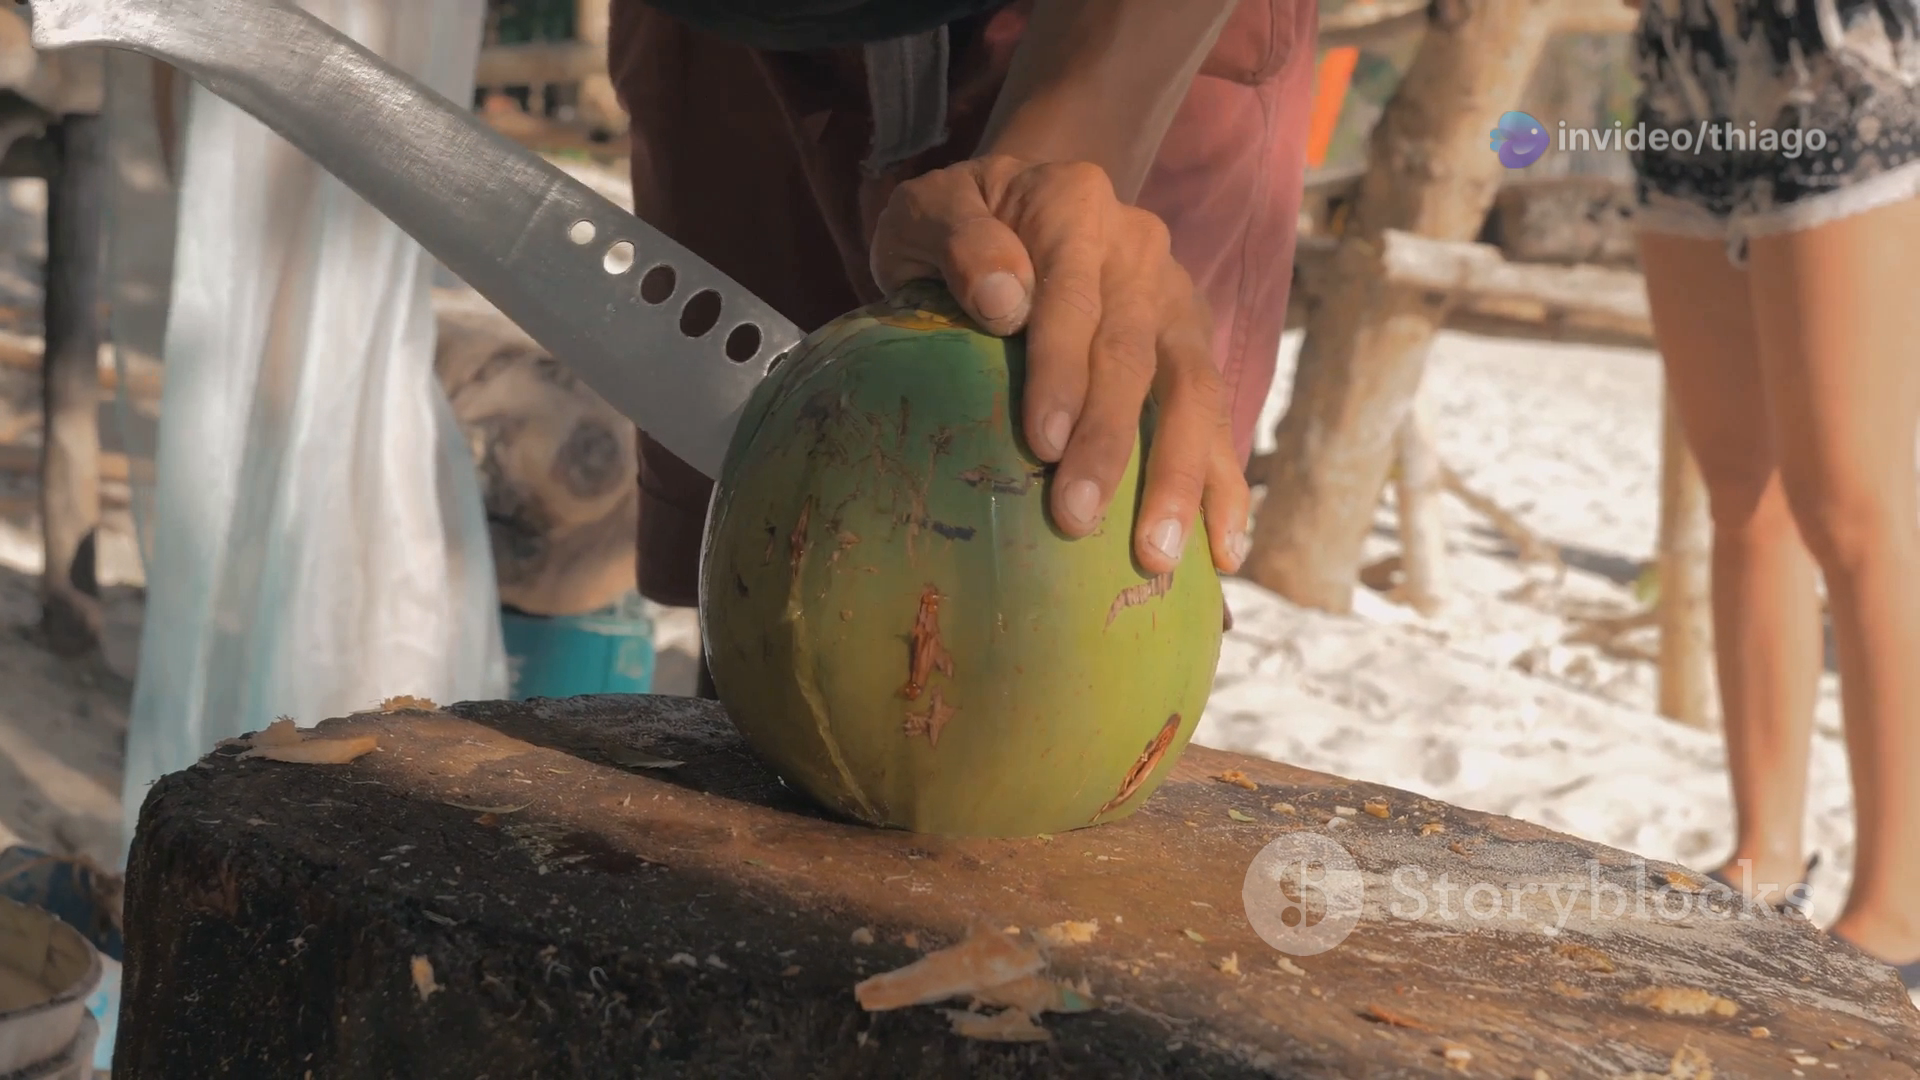cortante: (28, 0, 814, 480)
